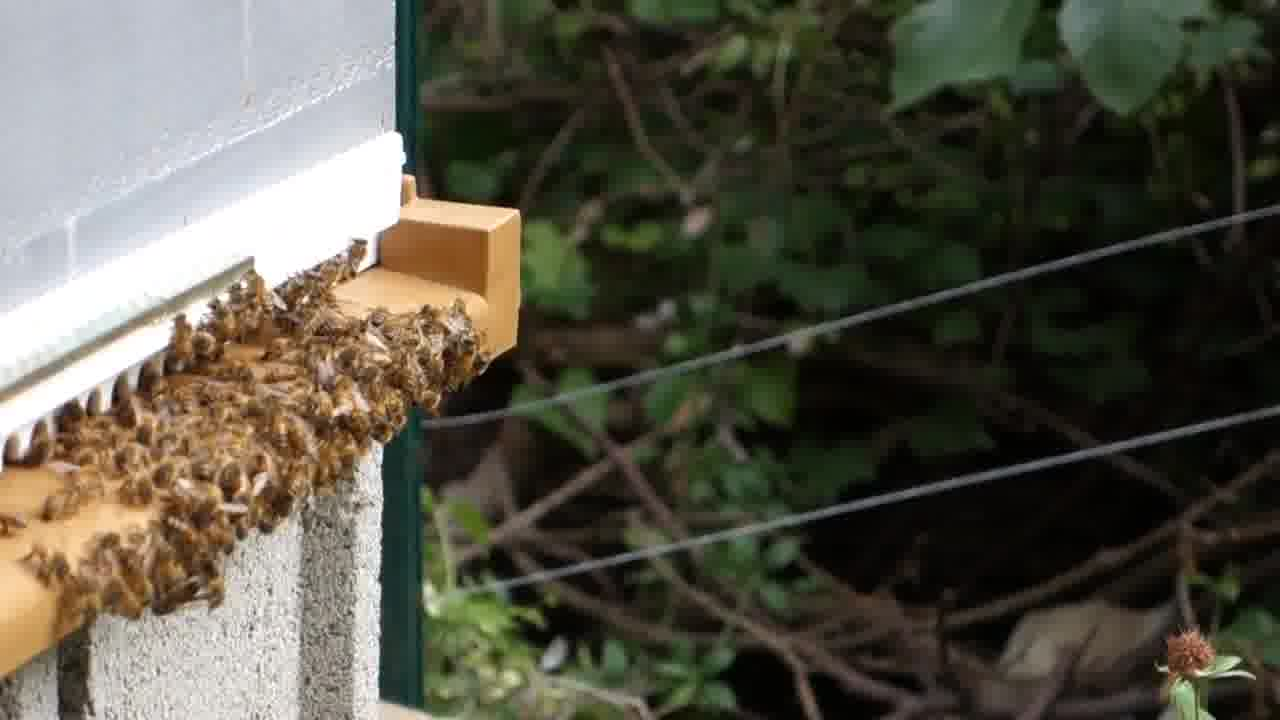bee: (109, 381, 264, 478), (340, 311, 431, 424), (165, 483, 248, 606), (260, 392, 346, 510), (249, 331, 341, 401), (214, 270, 328, 320), (432, 309, 490, 372), (106, 546, 154, 618), (169, 315, 230, 368), (335, 230, 366, 278)
